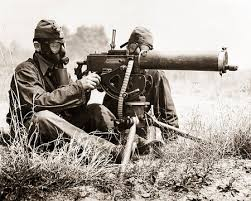Gun: (93, 46, 230, 84)
